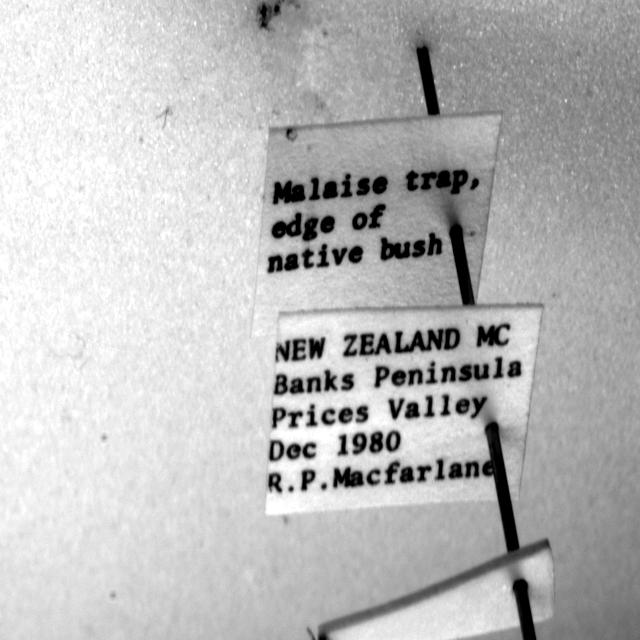typed_label: (266, 306, 542, 514), (251, 112, 501, 334)
